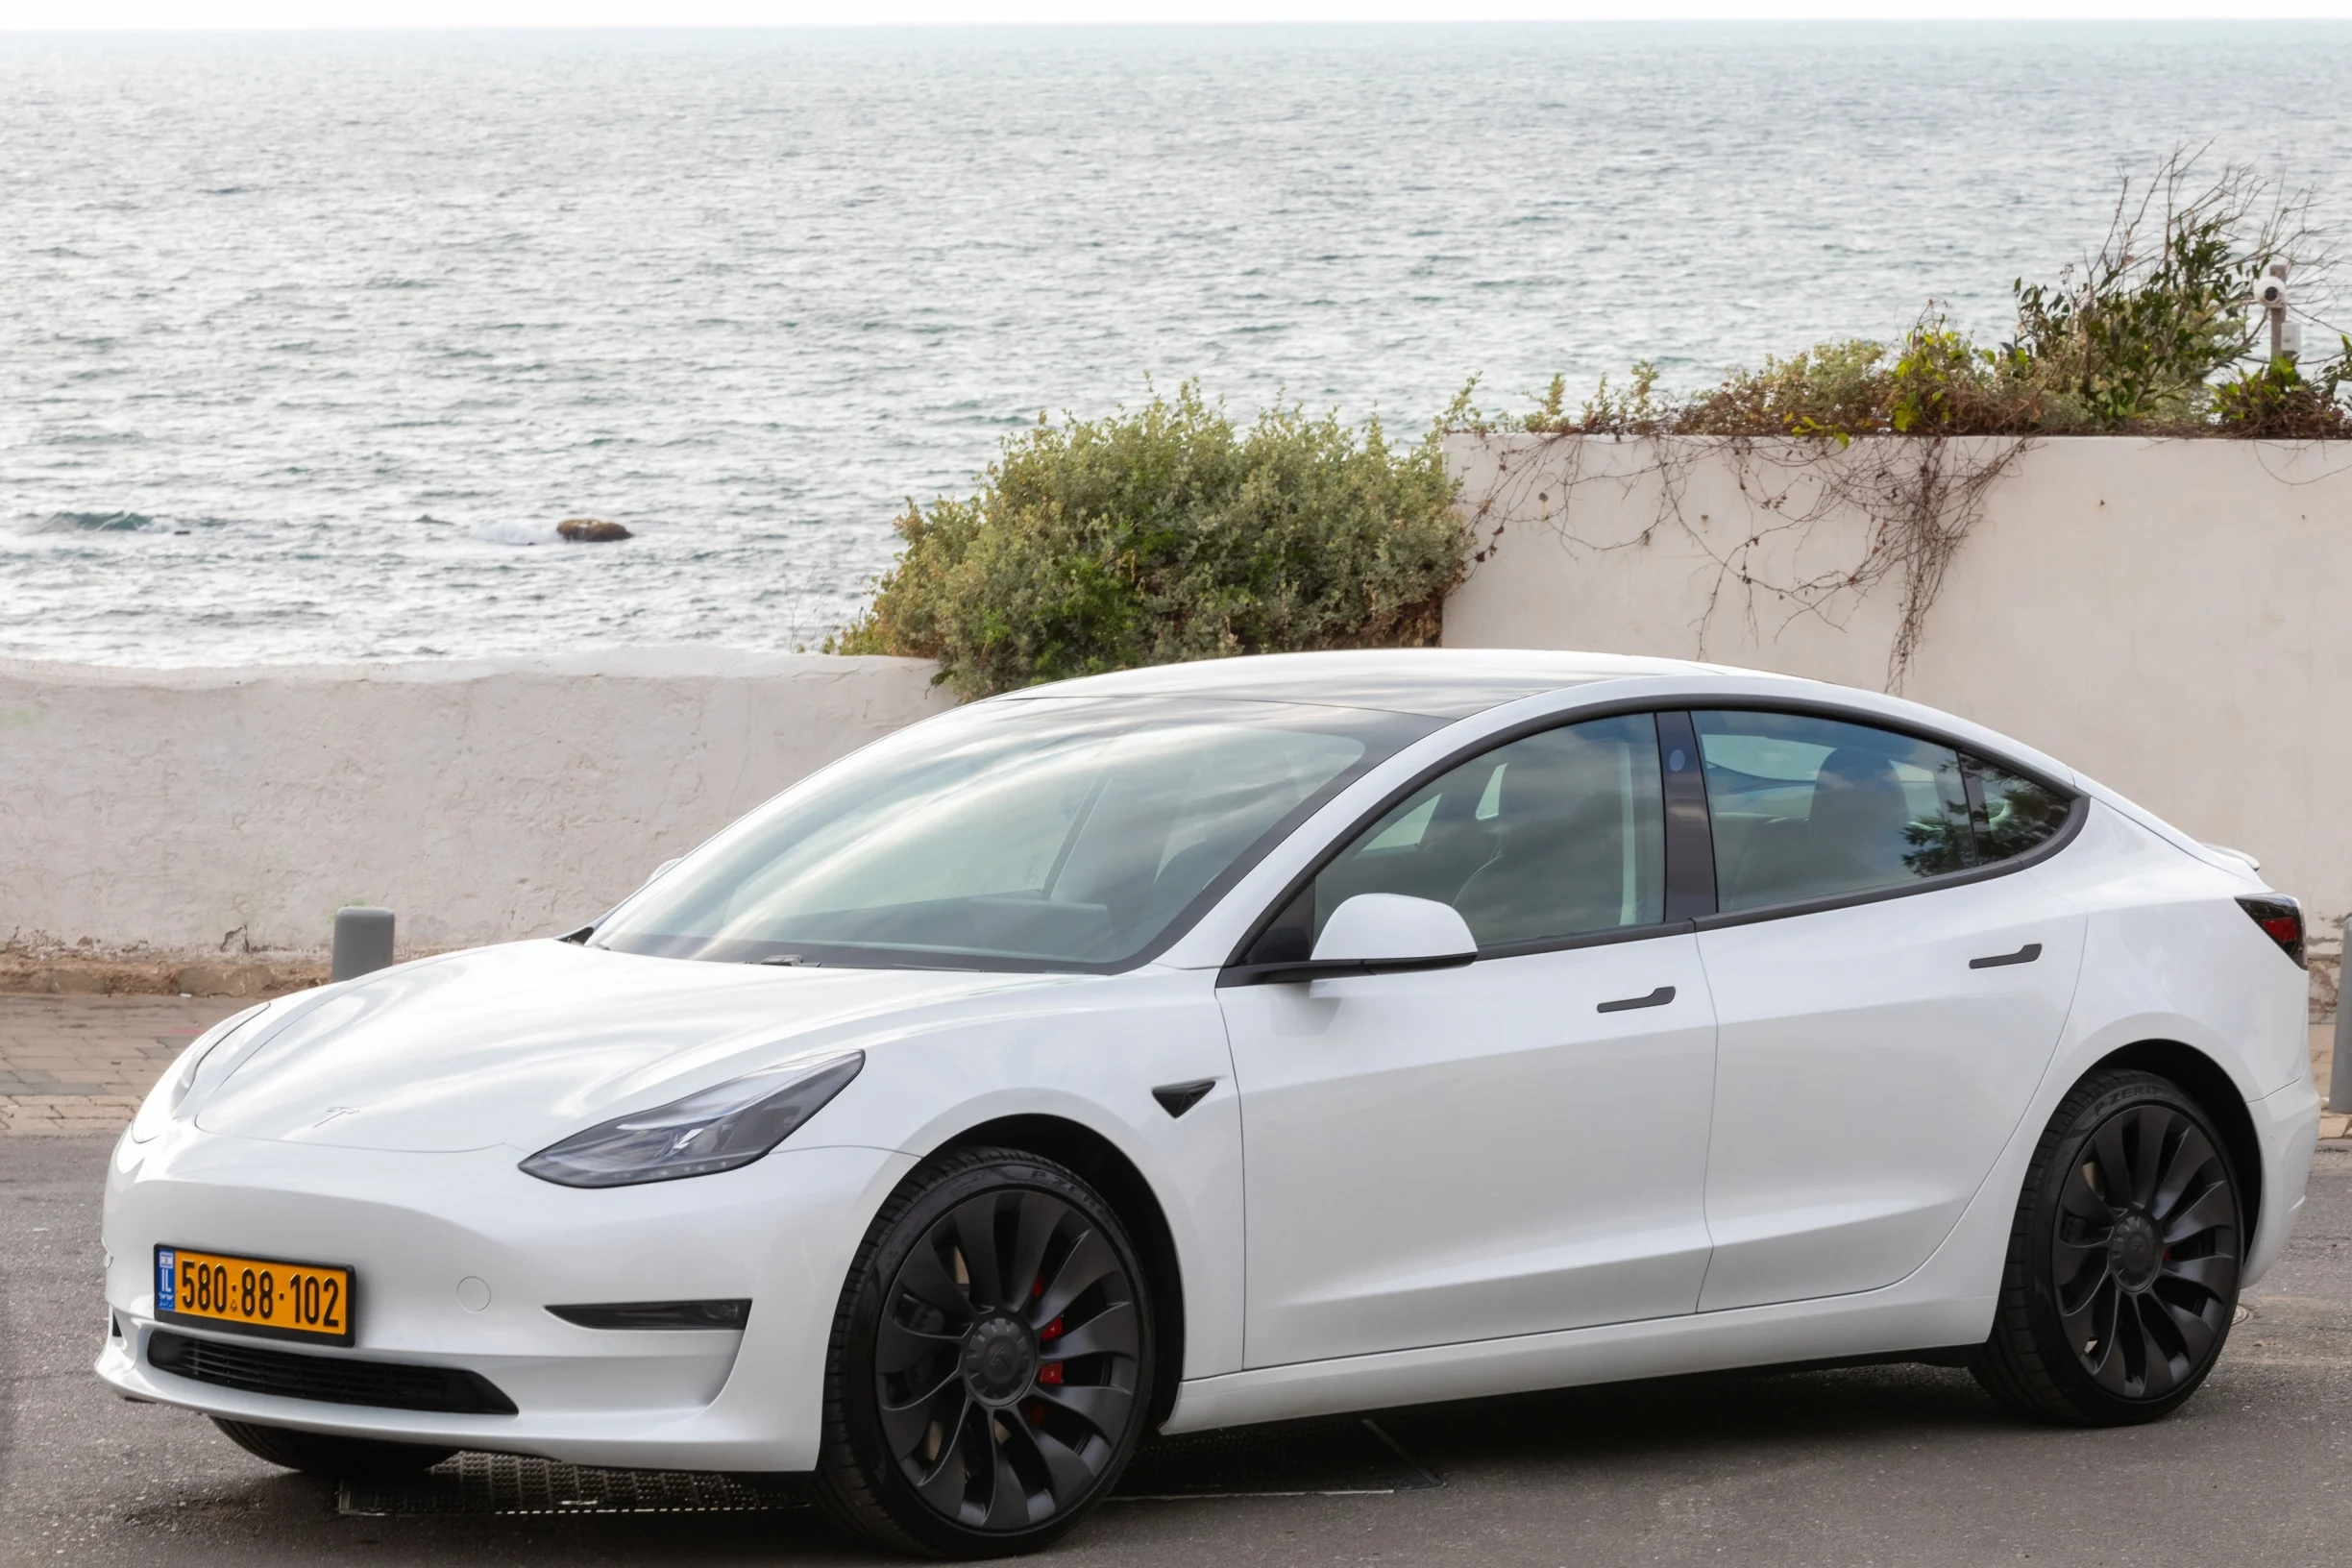licence: (150, 1239, 358, 1349)
